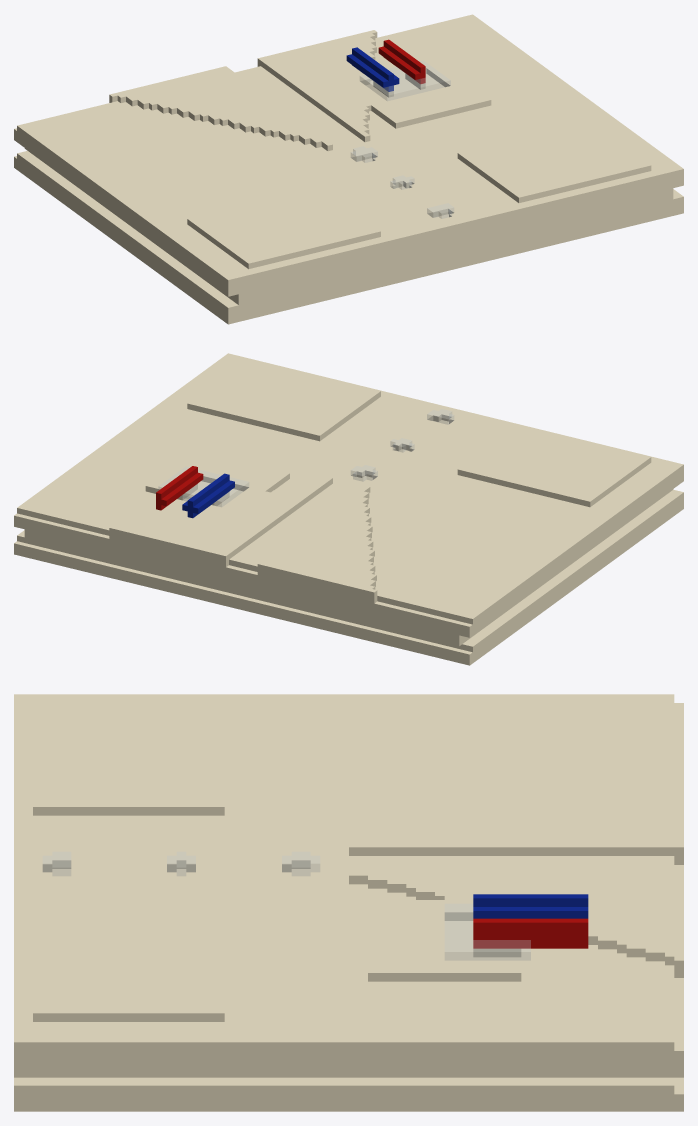
Rendered from coat_lab.glb.
3 views of the same model, one above another, from view 1: azimuth 30°, elevation 25°; view 2: azimuth 150°, elevation 25°; view 3: azimuth 270°, elevation 25° (orthographic). The views are drawn at different scales.
Parts seen in each view (by area): view 1: coat_lab:compound; view 2: coat_lab:compound; view 3: coat_lab:compound.
Part boxes in pixels (x1,y1,x2,y2): coat_lab:compound: (14,14,683,324); coat_lab:compound: (14,353,683,665); coat_lab:compound: (14,694,683,1111).
Size of the model in its own units: 0.344 by 0.048 by 0.28.
